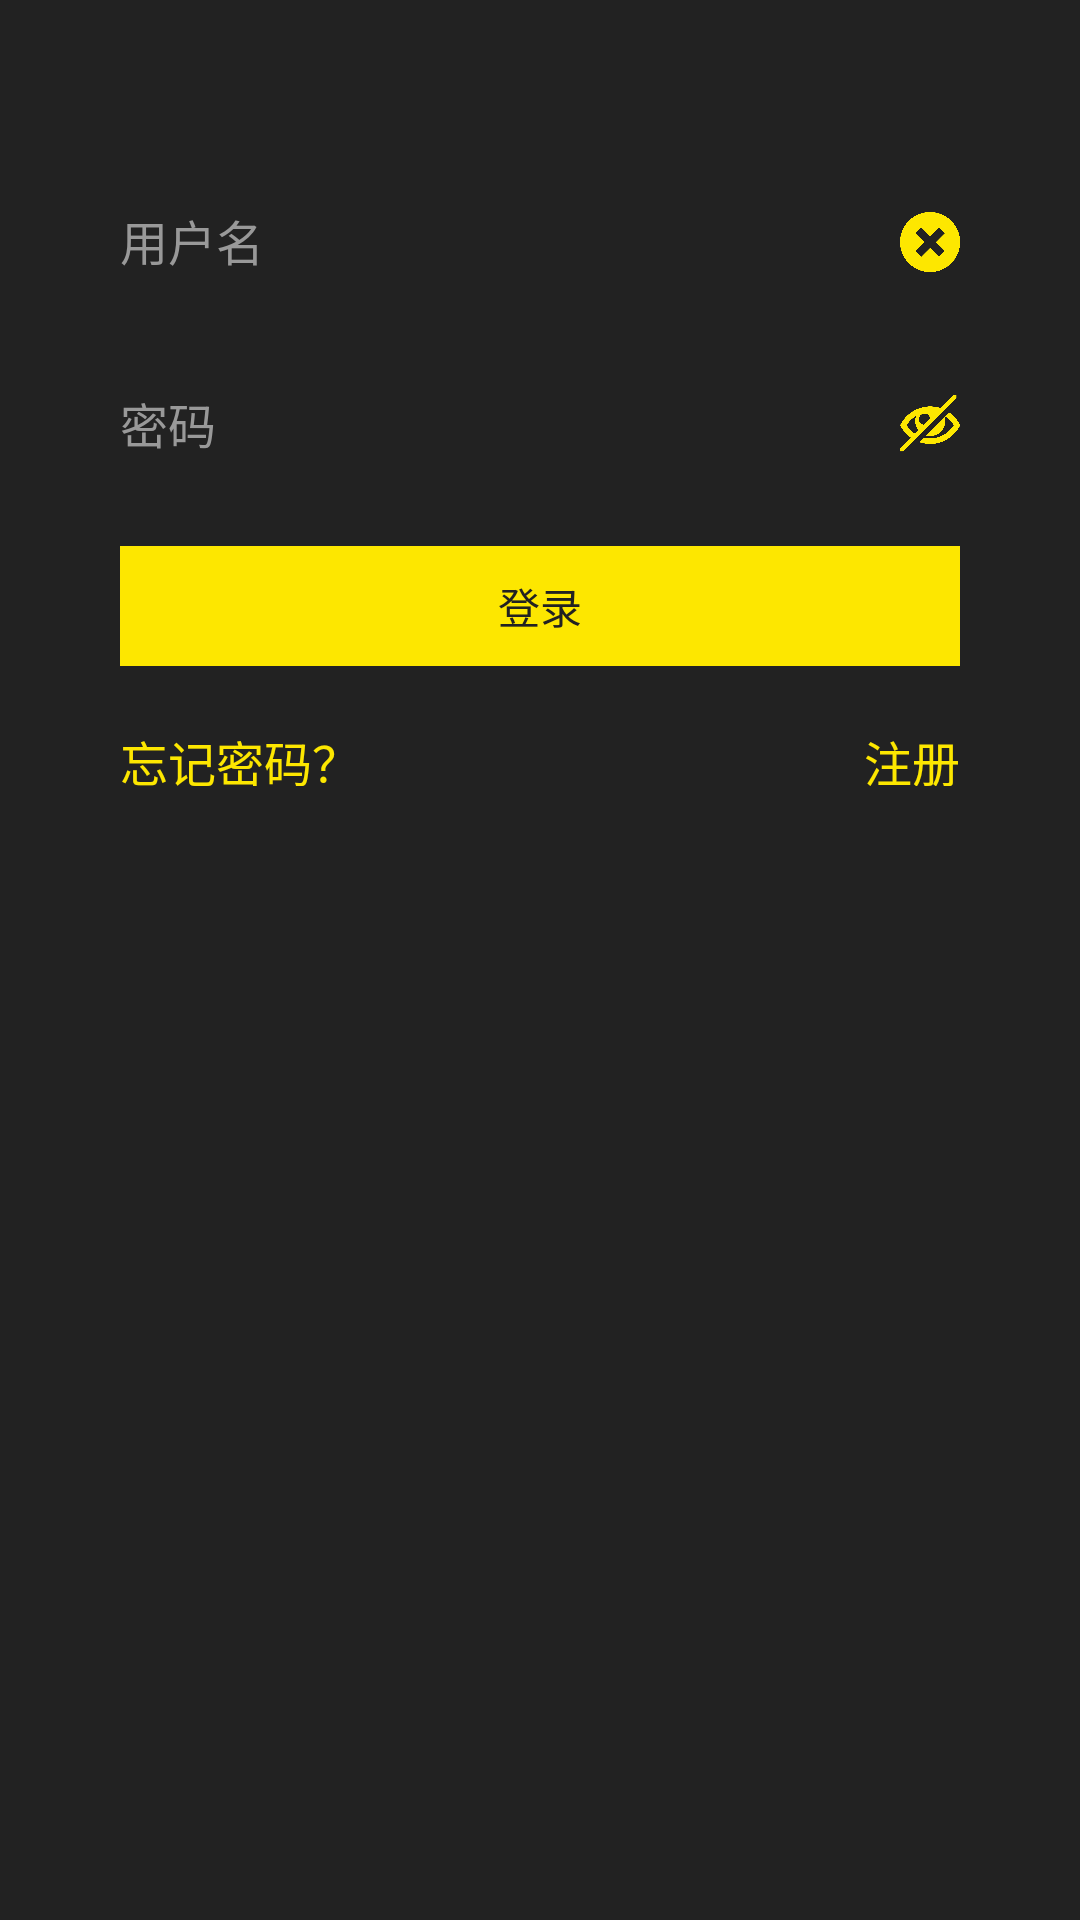

Icon click points for this 1080px x 1920px phone screenshot, format [x,y]:
eye close: [930,423]
